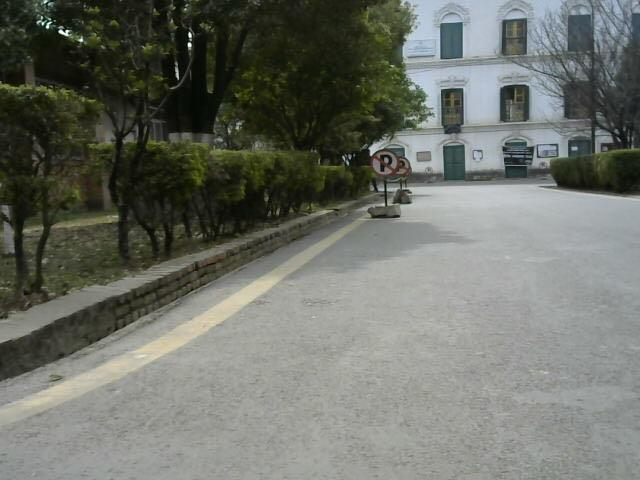Building: (413, 4, 629, 186)
Road: (0, 205, 640, 480)
Traffic sign: (369, 139, 420, 221), (399, 156, 416, 206), (535, 157, 549, 185)
Tree: (0, 0, 414, 245), (274, 0, 428, 137), (0, 77, 109, 226), (117, 131, 208, 246), (236, 145, 337, 218), (197, 139, 264, 226), (305, 145, 360, 216)
